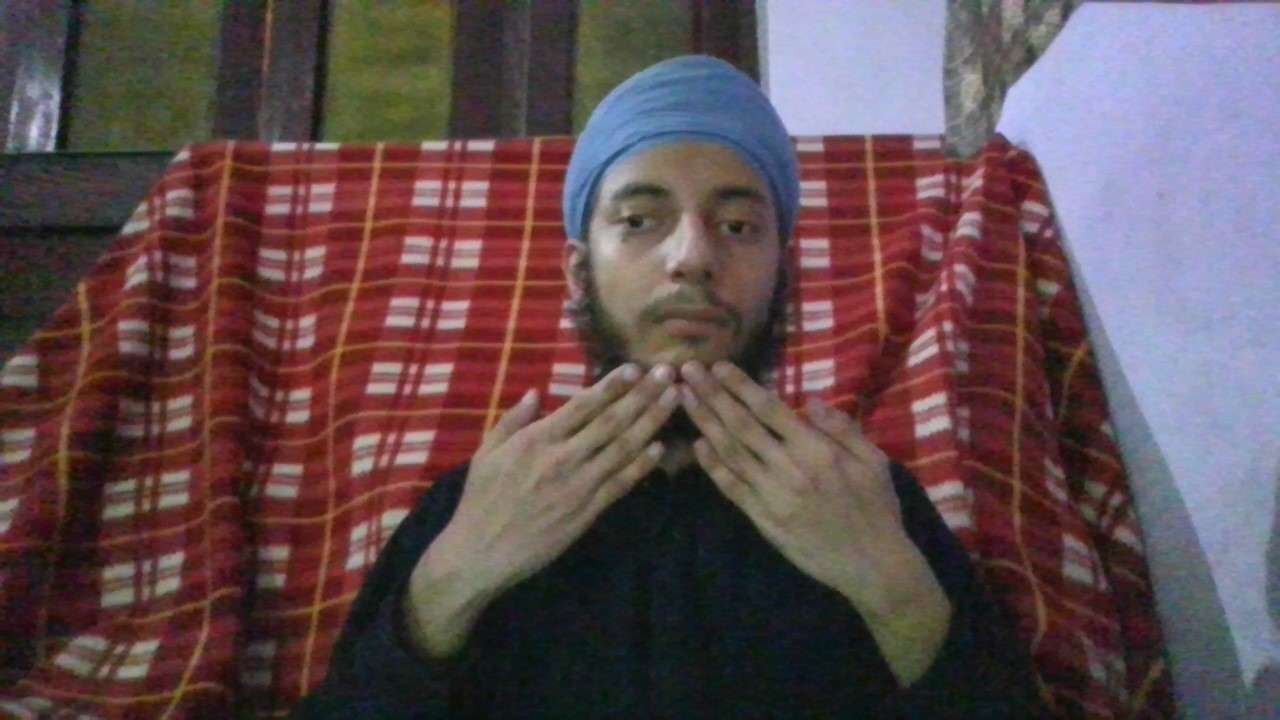Thank You: (462, 362, 900, 559)
